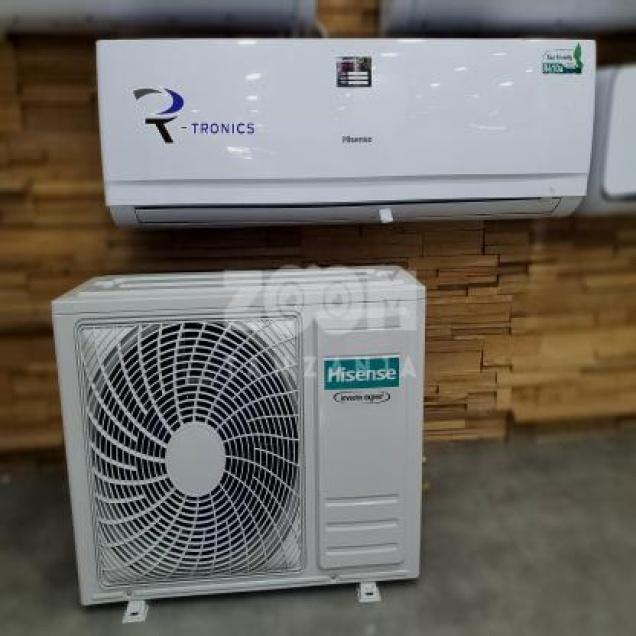AC: (94, 37, 596, 235)
